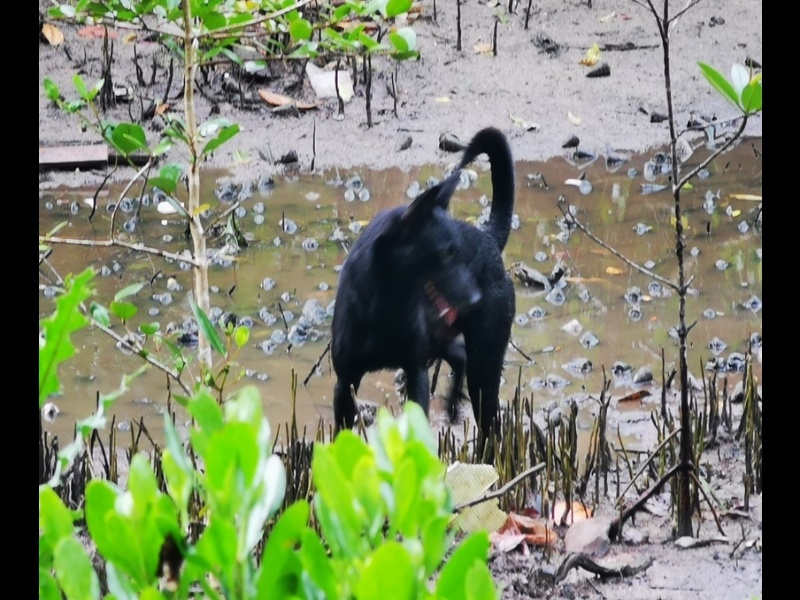dog: (311, 119, 537, 488)
